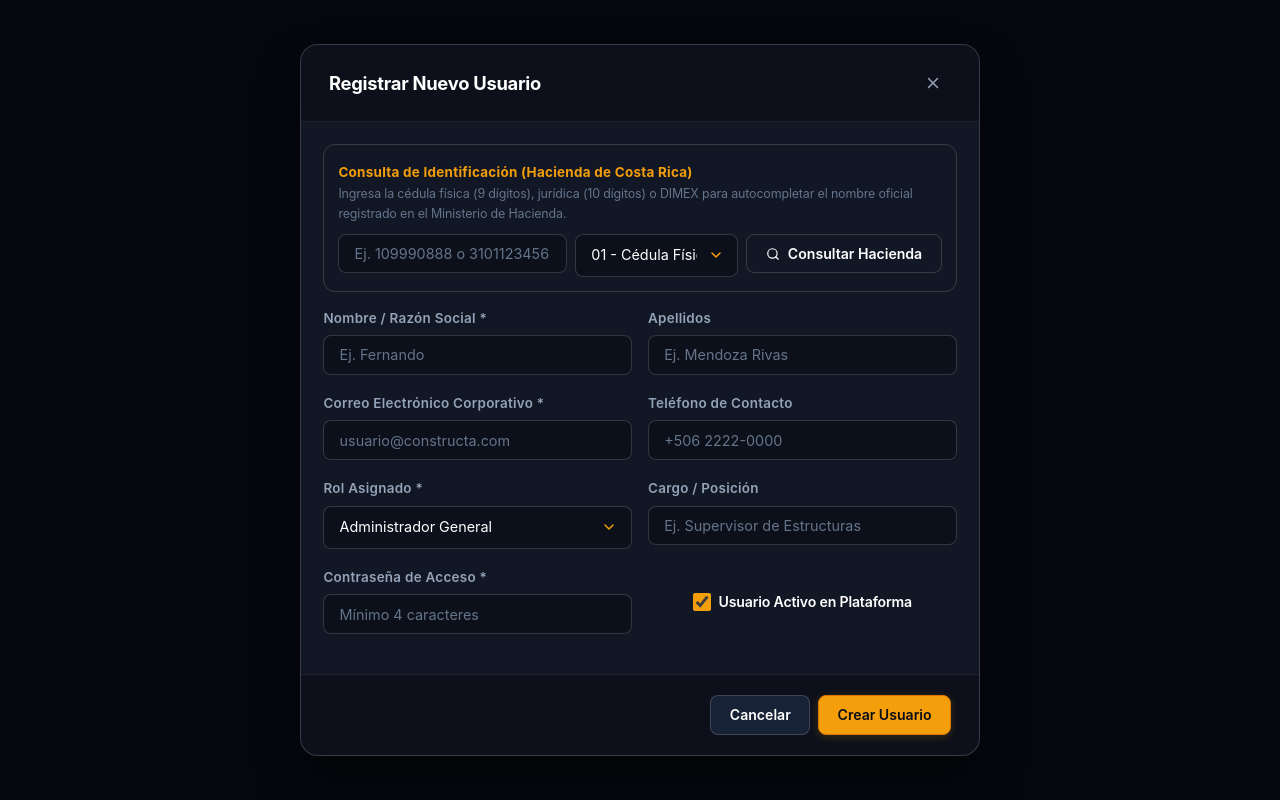
Test: Componente UserModal › 3. Valida campos obligatorios al intentar guardar sin llenar datos
Click the button "Crear Usuario": (885, 715) [818,695,951,735]
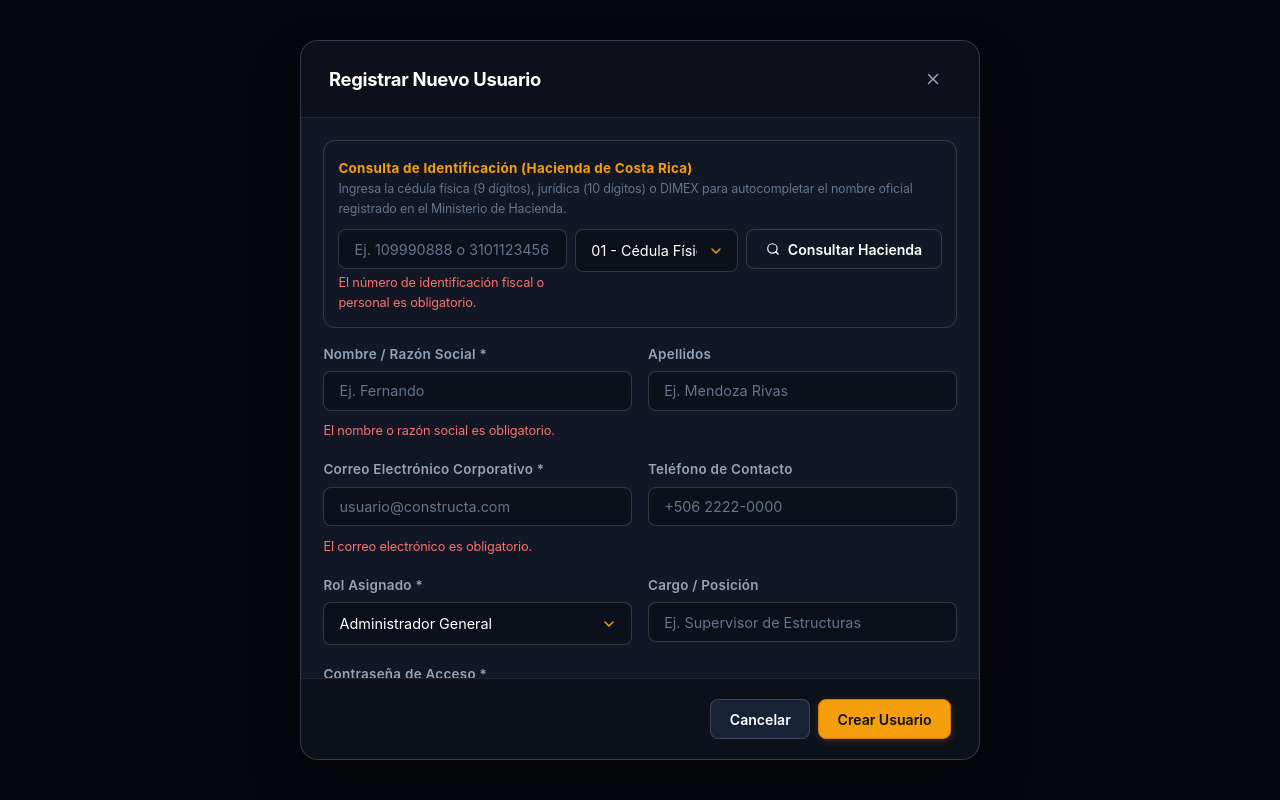
Expected: the text "El nombre o razón social es obligatorio." is shown, [323,423,555,438]
